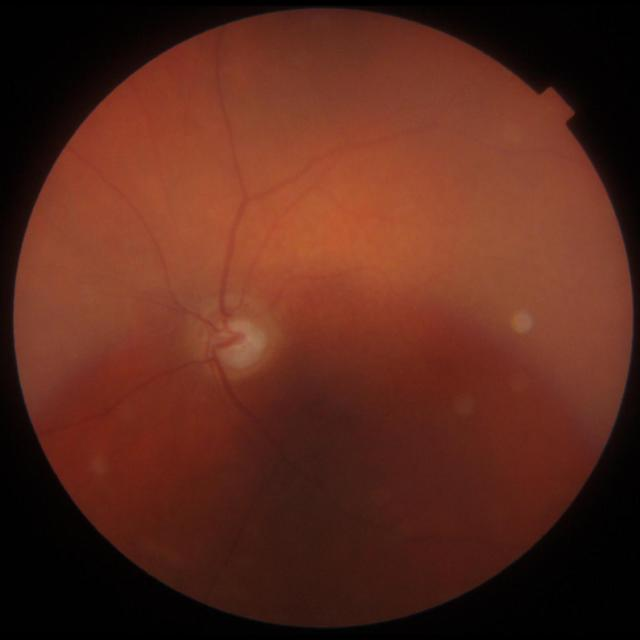OC: (216, 319, 266, 368)
OD: (193, 294, 280, 384)
